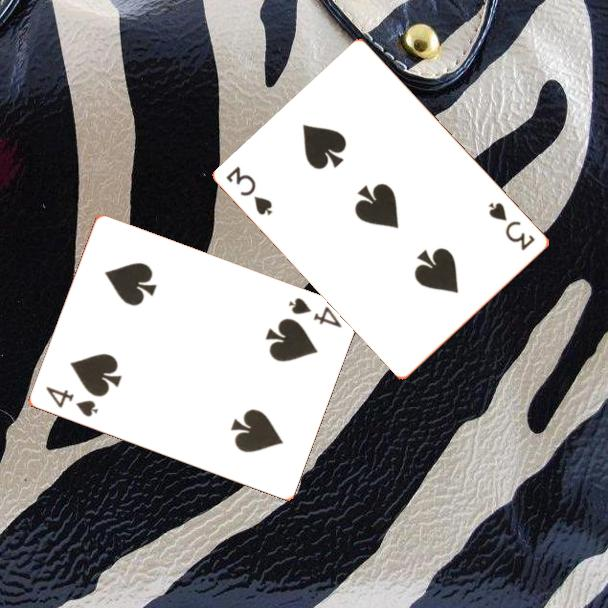s03: (223, 162, 276, 218), (485, 199, 538, 254)
s04: (284, 294, 344, 331), (42, 383, 101, 420)
